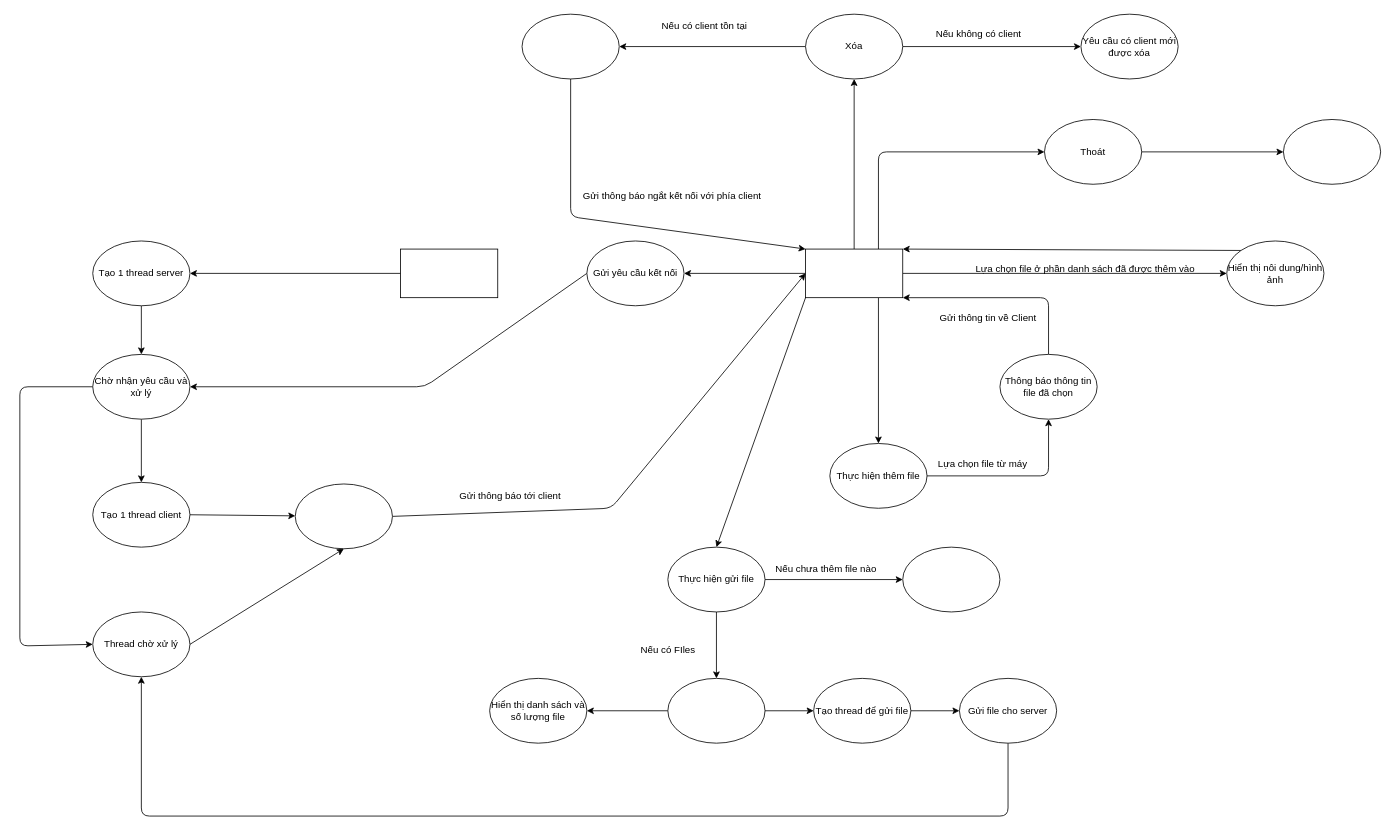
This 1395x837 diagram has some shape labels left out. The shapes that lost their labels are listed below. From the top down, each one's centre as x and y in pixels, then its label:
the point at 570,46: Ngắt kết nối với thread client
the point at 1332,151: Ngắt kết nối giữa server và client
the point at 449,273: Server
the point at 854,273: Client
the point at 343,516: Gửi thông báo
the point at 951,579: Thông báo chưa có file được thêm
the point at 716,710: Kiểm tra số lượng file
